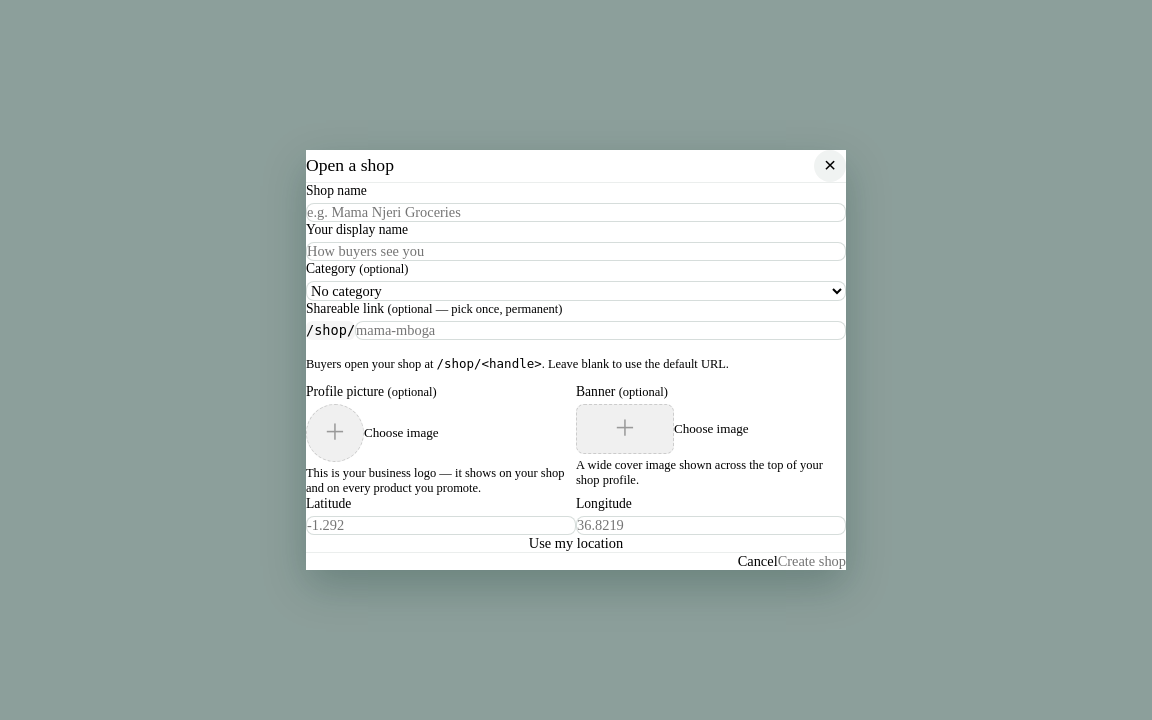
Test: CreateShopForm › does not submit until name, display name, and a valid lat/lng are present
Expected: the button "Create shop" is disabled, [778,554,846,570]
Step 1. Type "Mama Njeri" into the field labelled "Shop name" → coordinates (576, 212), box [306,202,846,222]
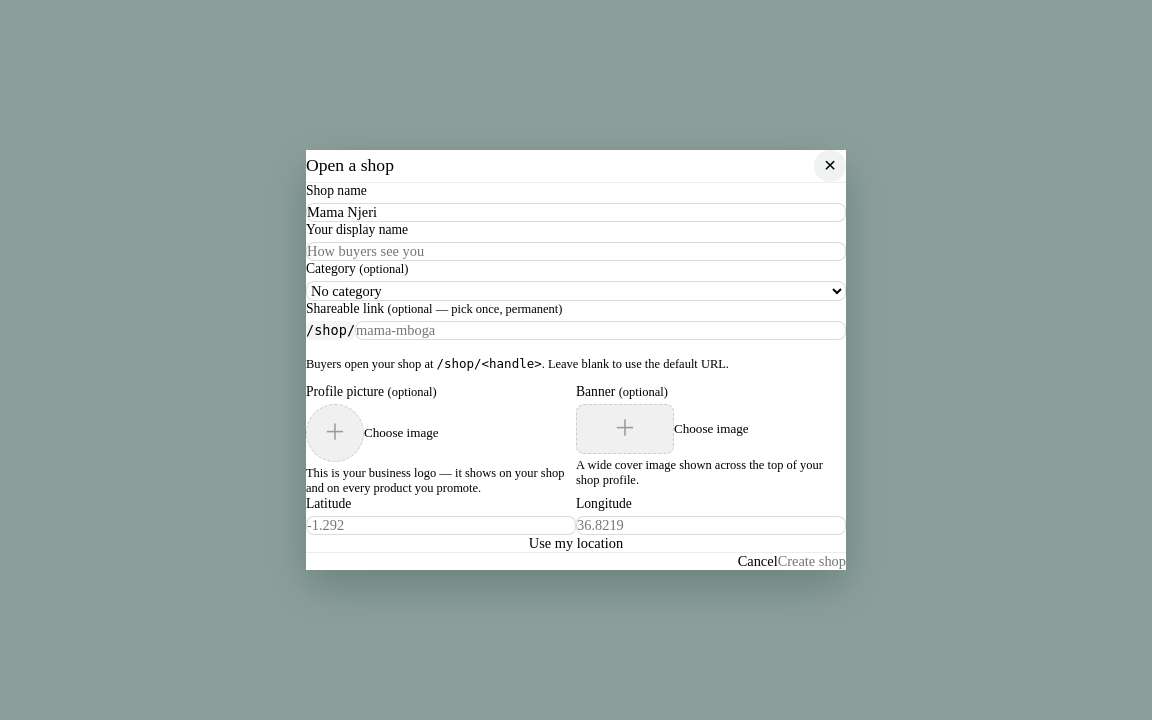
Step 2. Type "Njeri" into the field labelled "Your display name" → coordinates (576, 251), box [306,242,846,260]
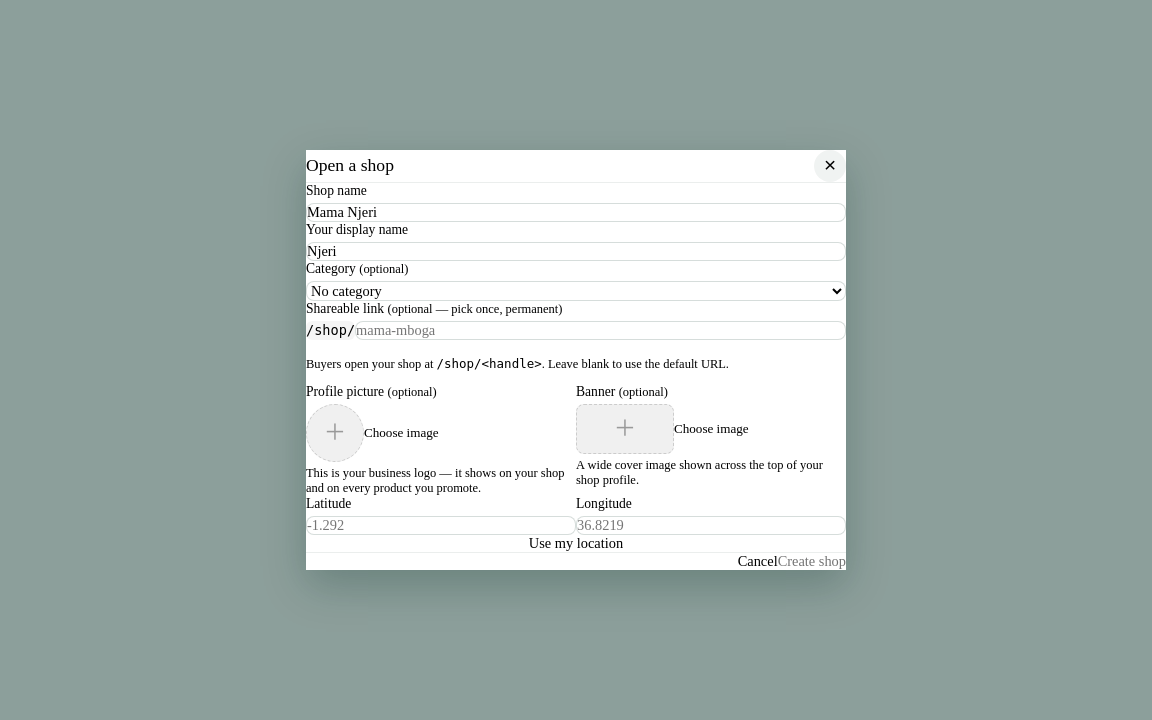
Expected: the button "Create shop" is disabled, [778,554,846,570]
Step 3. Type "-1.29" into the field labelled "Latitude" → coordinates (441, 526), box [306,516,576,536]
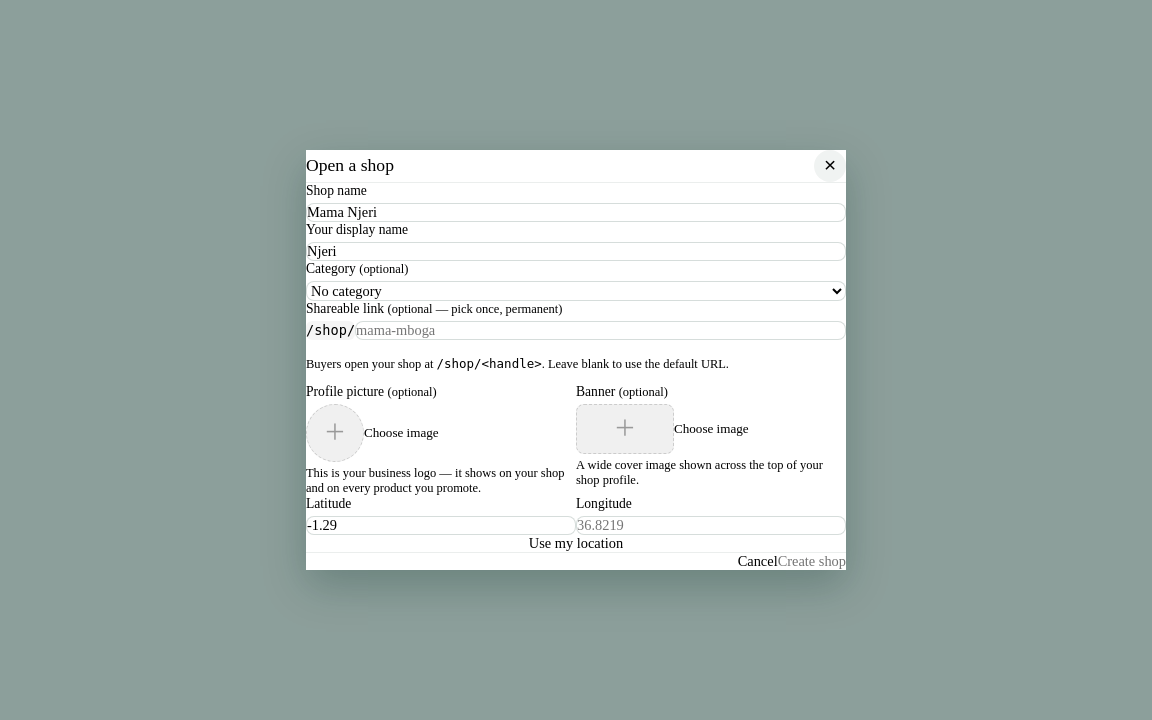
Step 4. Type "36.82" into the field labelled "Longitude" → coordinates (711, 526), box [576,516,846,536]
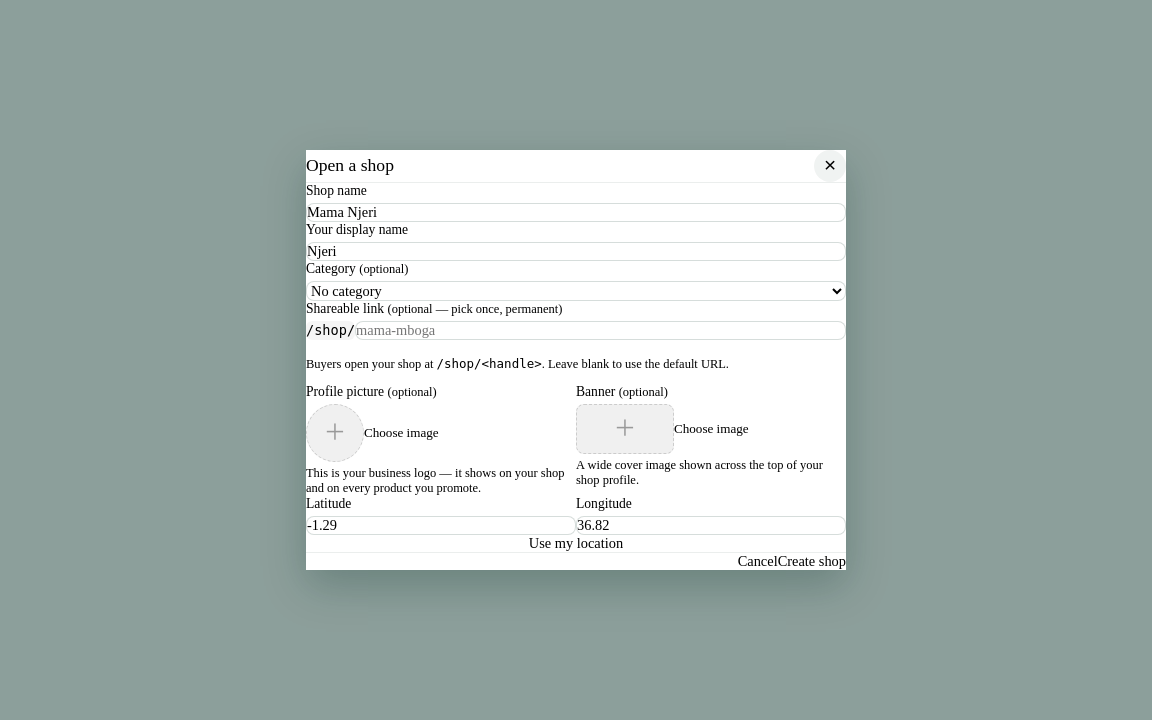
Expected: the button "Create shop" is enabled, [778,554,846,570]
